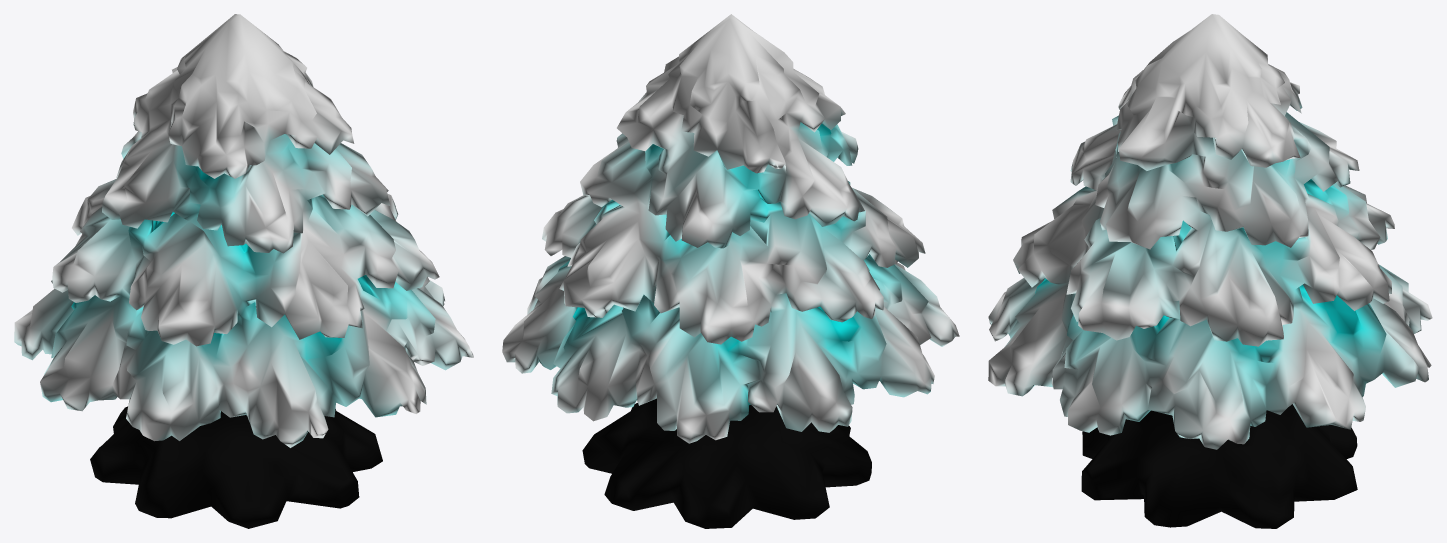
Rendered from M_PineTree01.fbx.
3 renders of one model, left to right at view 1: azimuth 30°, elevation 25°; view 2: azimuth 150°, elevation 25°; view 3: azimuth 270°, elevation 25°, orthographic.
Parts seen in each view (by area): view 1: M_PineTree01_LOD0; view 2: M_PineTree01_LOD0; view 3: M_PineTree01_LOD0.
Part boxes in pixels (x1,y1,x2,y2): M_PineTree01_LOD0: [14, 14, 473, 528]; M_PineTree01_LOD0: [502, 14, 959, 528]; M_PineTree01_LOD0: [988, 14, 1432, 528].
Size of what is drawn, in the model's own units: 2.05 by 2.24 by 1.97.
